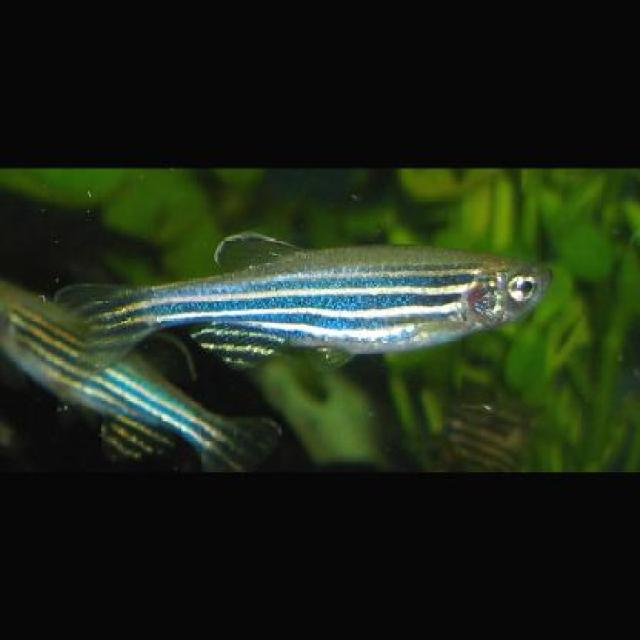ZebraFish: (66, 230, 543, 379)
